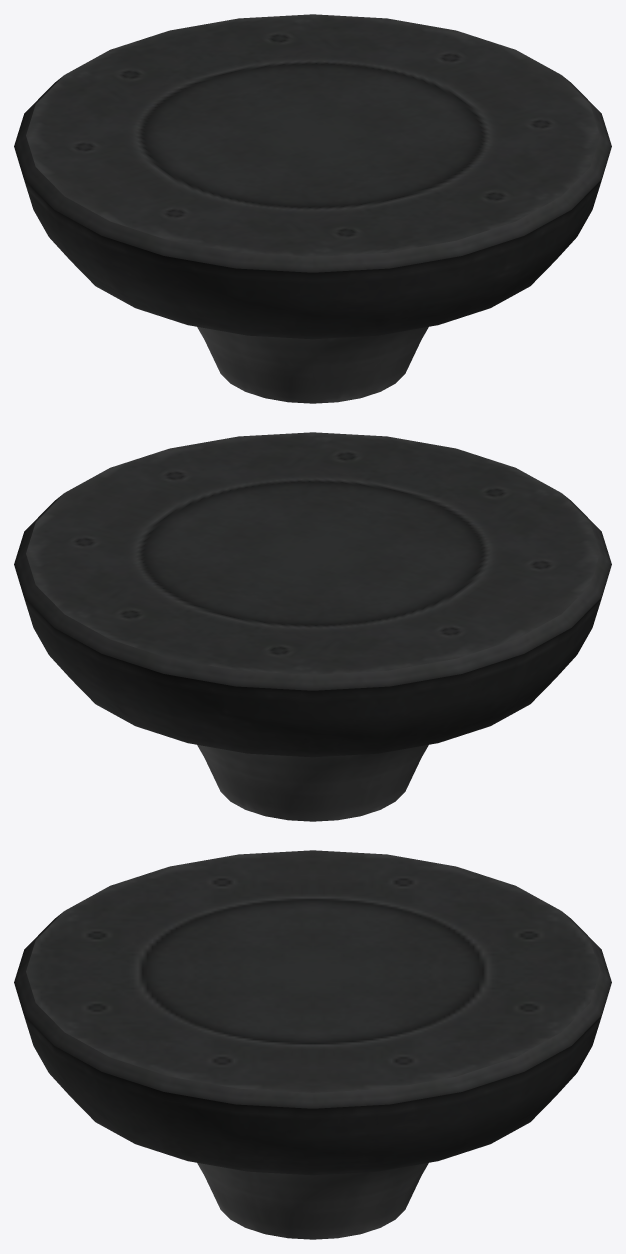
File: castor_aerospike_s0_1.obj
3 renders of one model, top to bottom at view 1: azimuth 30°, elevation 25°; view 2: azimuth 150°, elevation 25°; view 3: azimuth 270°, elevation 25°, orthographic.
Parts seen in each view (by area): view 1: castor_aerospike_s0_1; view 2: castor_aerospike_s0_1; view 3: castor_aerospike_s0_1.
Boxes of the visible parts, box(x1,y1,x2,y2) form: castor_aerospike_s0_1: box(14, 14, 611, 403); castor_aerospike_s0_1: box(14, 432, 611, 821); castor_aerospike_s0_1: box(14, 850, 611, 1239).
Size of the model in its own units: 0.625 by 0.2625 by 0.625.
